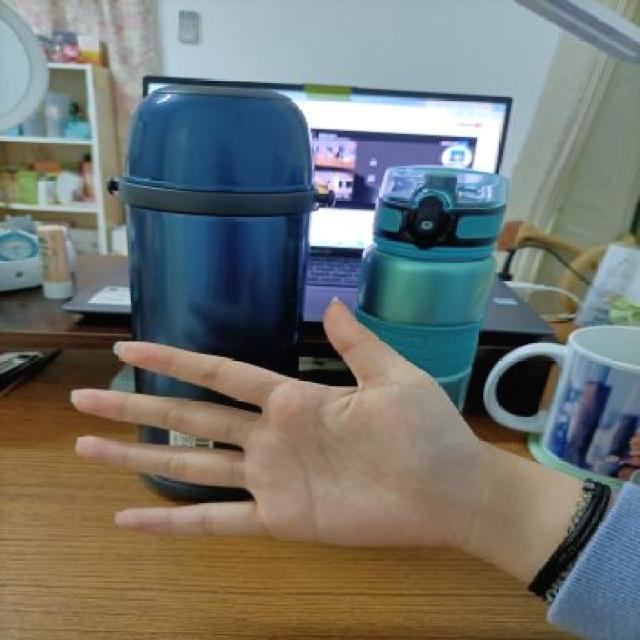no_glove: (55, 277, 520, 578)
